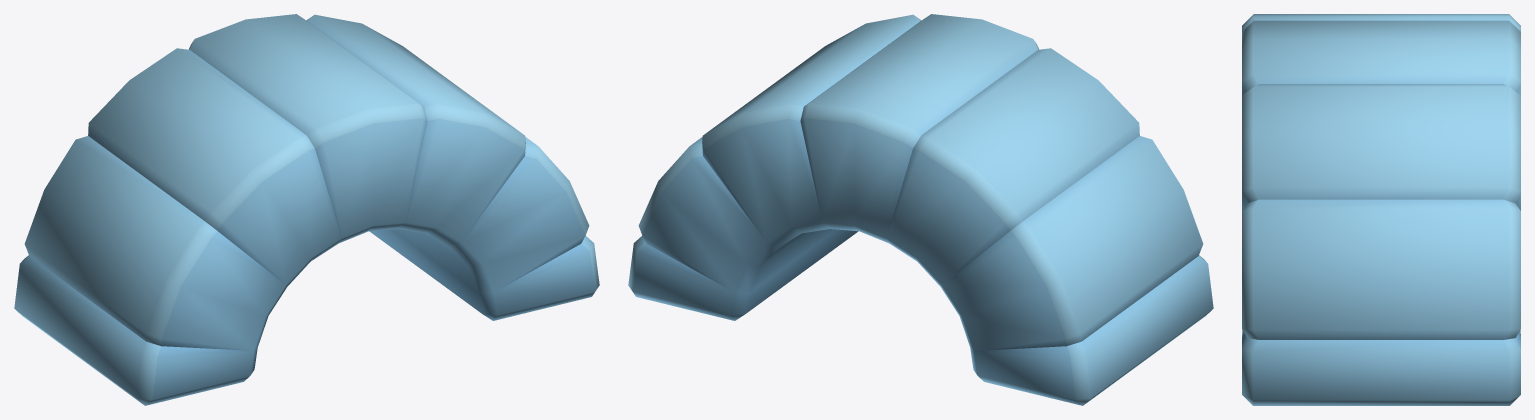
Rendered from tire_blue.glb.
3 renders of one model, left to right at view 1: azimuth 30°, elevation 25°; view 2: azimuth 150°, elevation 25°; view 3: azimuth 270°, elevation 25°, orthographic. The views are drawn at different scales.
Parts seen in each view (by area): view 1: tire_blue; view 2: tire_blue; view 3: tire_blue.
Boxes of the visible parts, bbox=[...] form: tire_blue: bbox=[14, 14, 599, 405]; tire_blue: bbox=[628, 14, 1213, 405]; tire_blue: bbox=[1242, 14, 1520, 405].
Bounding box in the file's own units: 0.8 × 0.4 × 0.4.
Materials: 1 (1 with a texture image).
